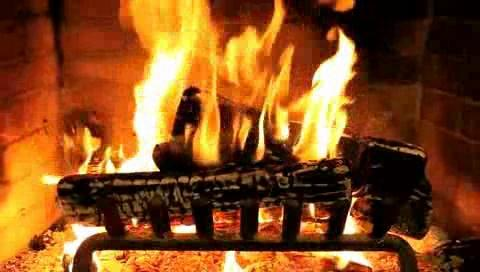fire: (110, 4, 356, 168)
